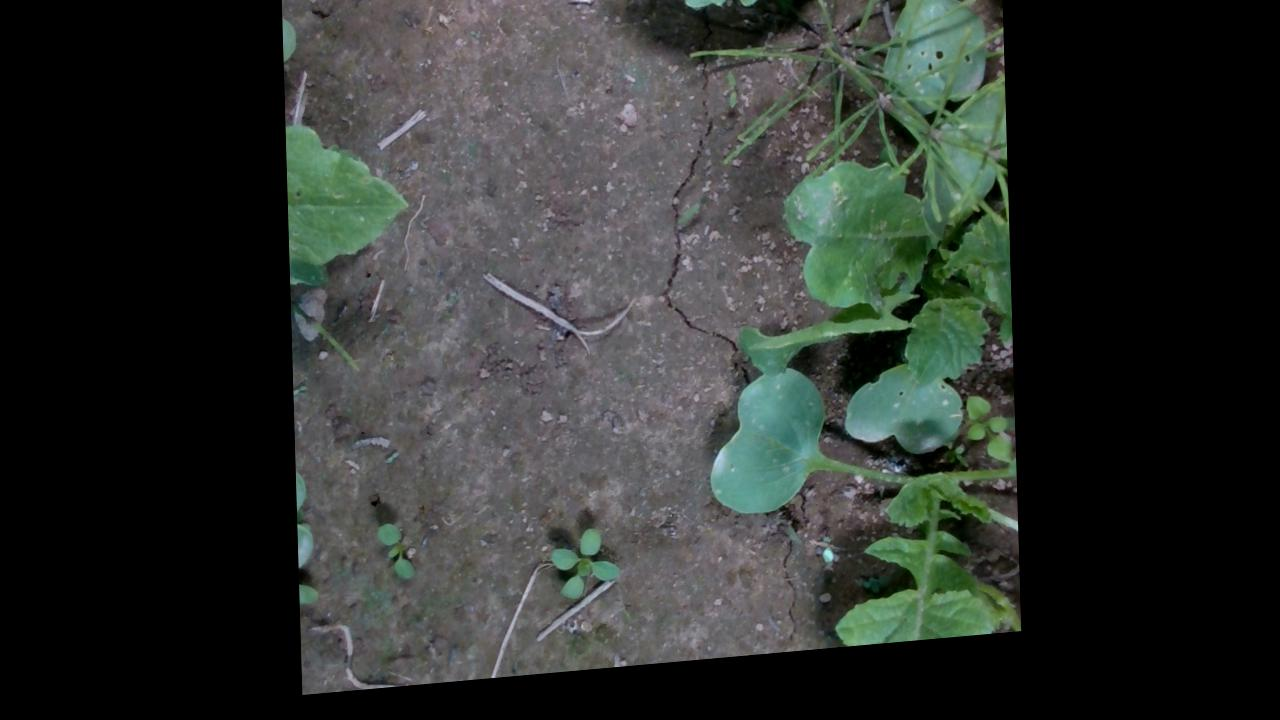weed: (372, 521, 414, 592)
